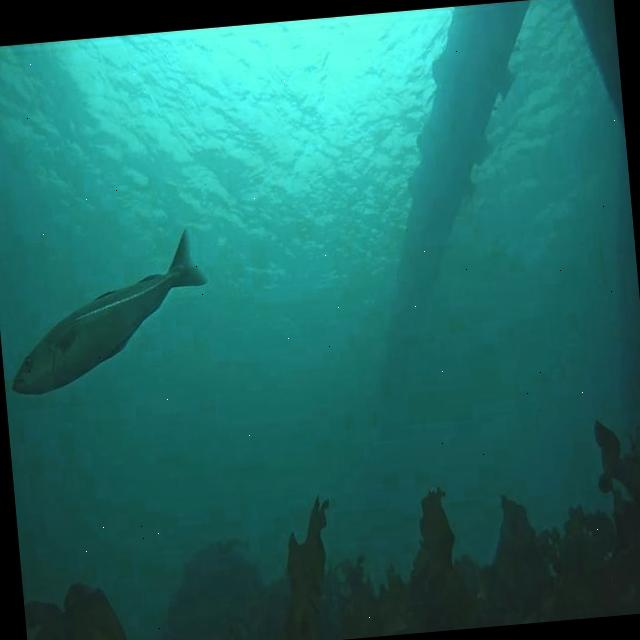fish: (0, 225, 212, 396)
